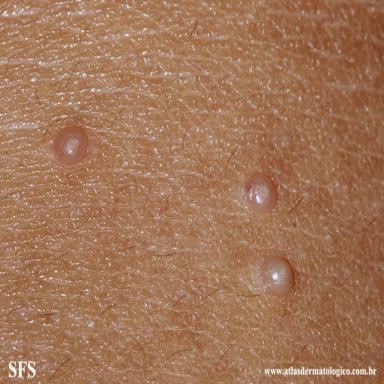Molluscum-Contagiosum: (53, 126, 89, 166), (259, 257, 293, 296), (244, 173, 276, 213)
